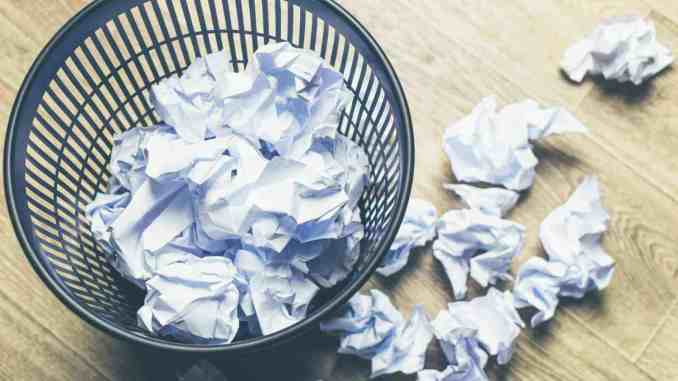paper: (195, 12, 376, 176), (492, 163, 641, 349), (36, 84, 167, 280), (435, 74, 614, 210), (210, 123, 368, 271), (351, 151, 476, 290), (281, 269, 444, 374), (122, 234, 250, 358), (425, 187, 532, 333), (395, 273, 538, 381), (532, 2, 678, 101), (435, 133, 530, 250)
